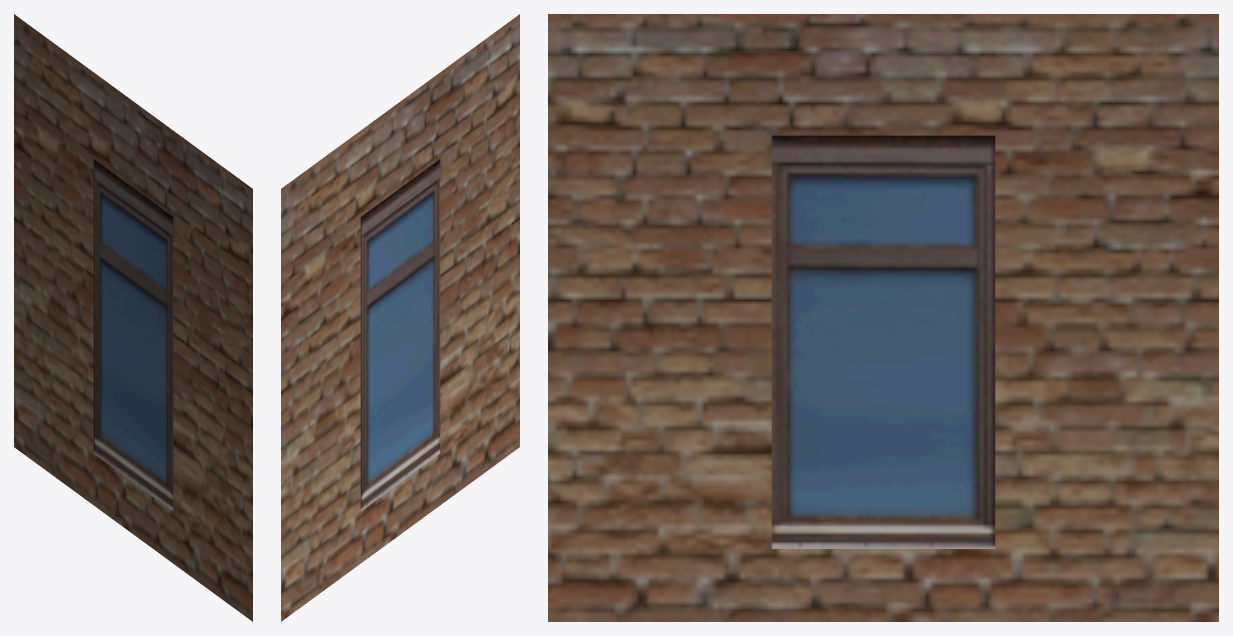
Rendered from Urban_BrickWallWindow2_Model.fbx.
3 renders of one model, left to right at view 1: azimuth 30°, elevation 25°; view 2: azimuth 150°, elevation 25°; view 3: azimuth 270°, elevation 25°, orthographic. The views are drawn at different scales.
Visible parts, largest first — view 1: Urban_BrickWallWindow2_Mesh; view 2: Urban_BrickWallWindow2_Mesh; view 3: Urban_BrickWallWindow2_Mesh.
Part boxes in pixels (<box>): Urban_BrickWallWindow2_Mesh: <box>14,14,252,621</box>; Urban_BrickWallWindow2_Mesh: <box>281,14,519,621</box>; Urban_BrickWallWindow2_Mesh: <box>548,14,1218,621</box>.
Size of the model in its own units: 0 by 2.1 by 2.1.
